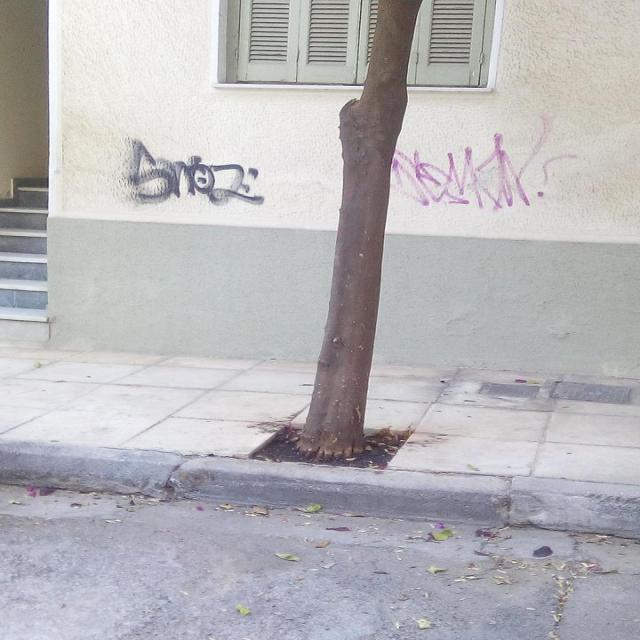nonspitting: (390, 115, 574, 212), (124, 138, 266, 208)
